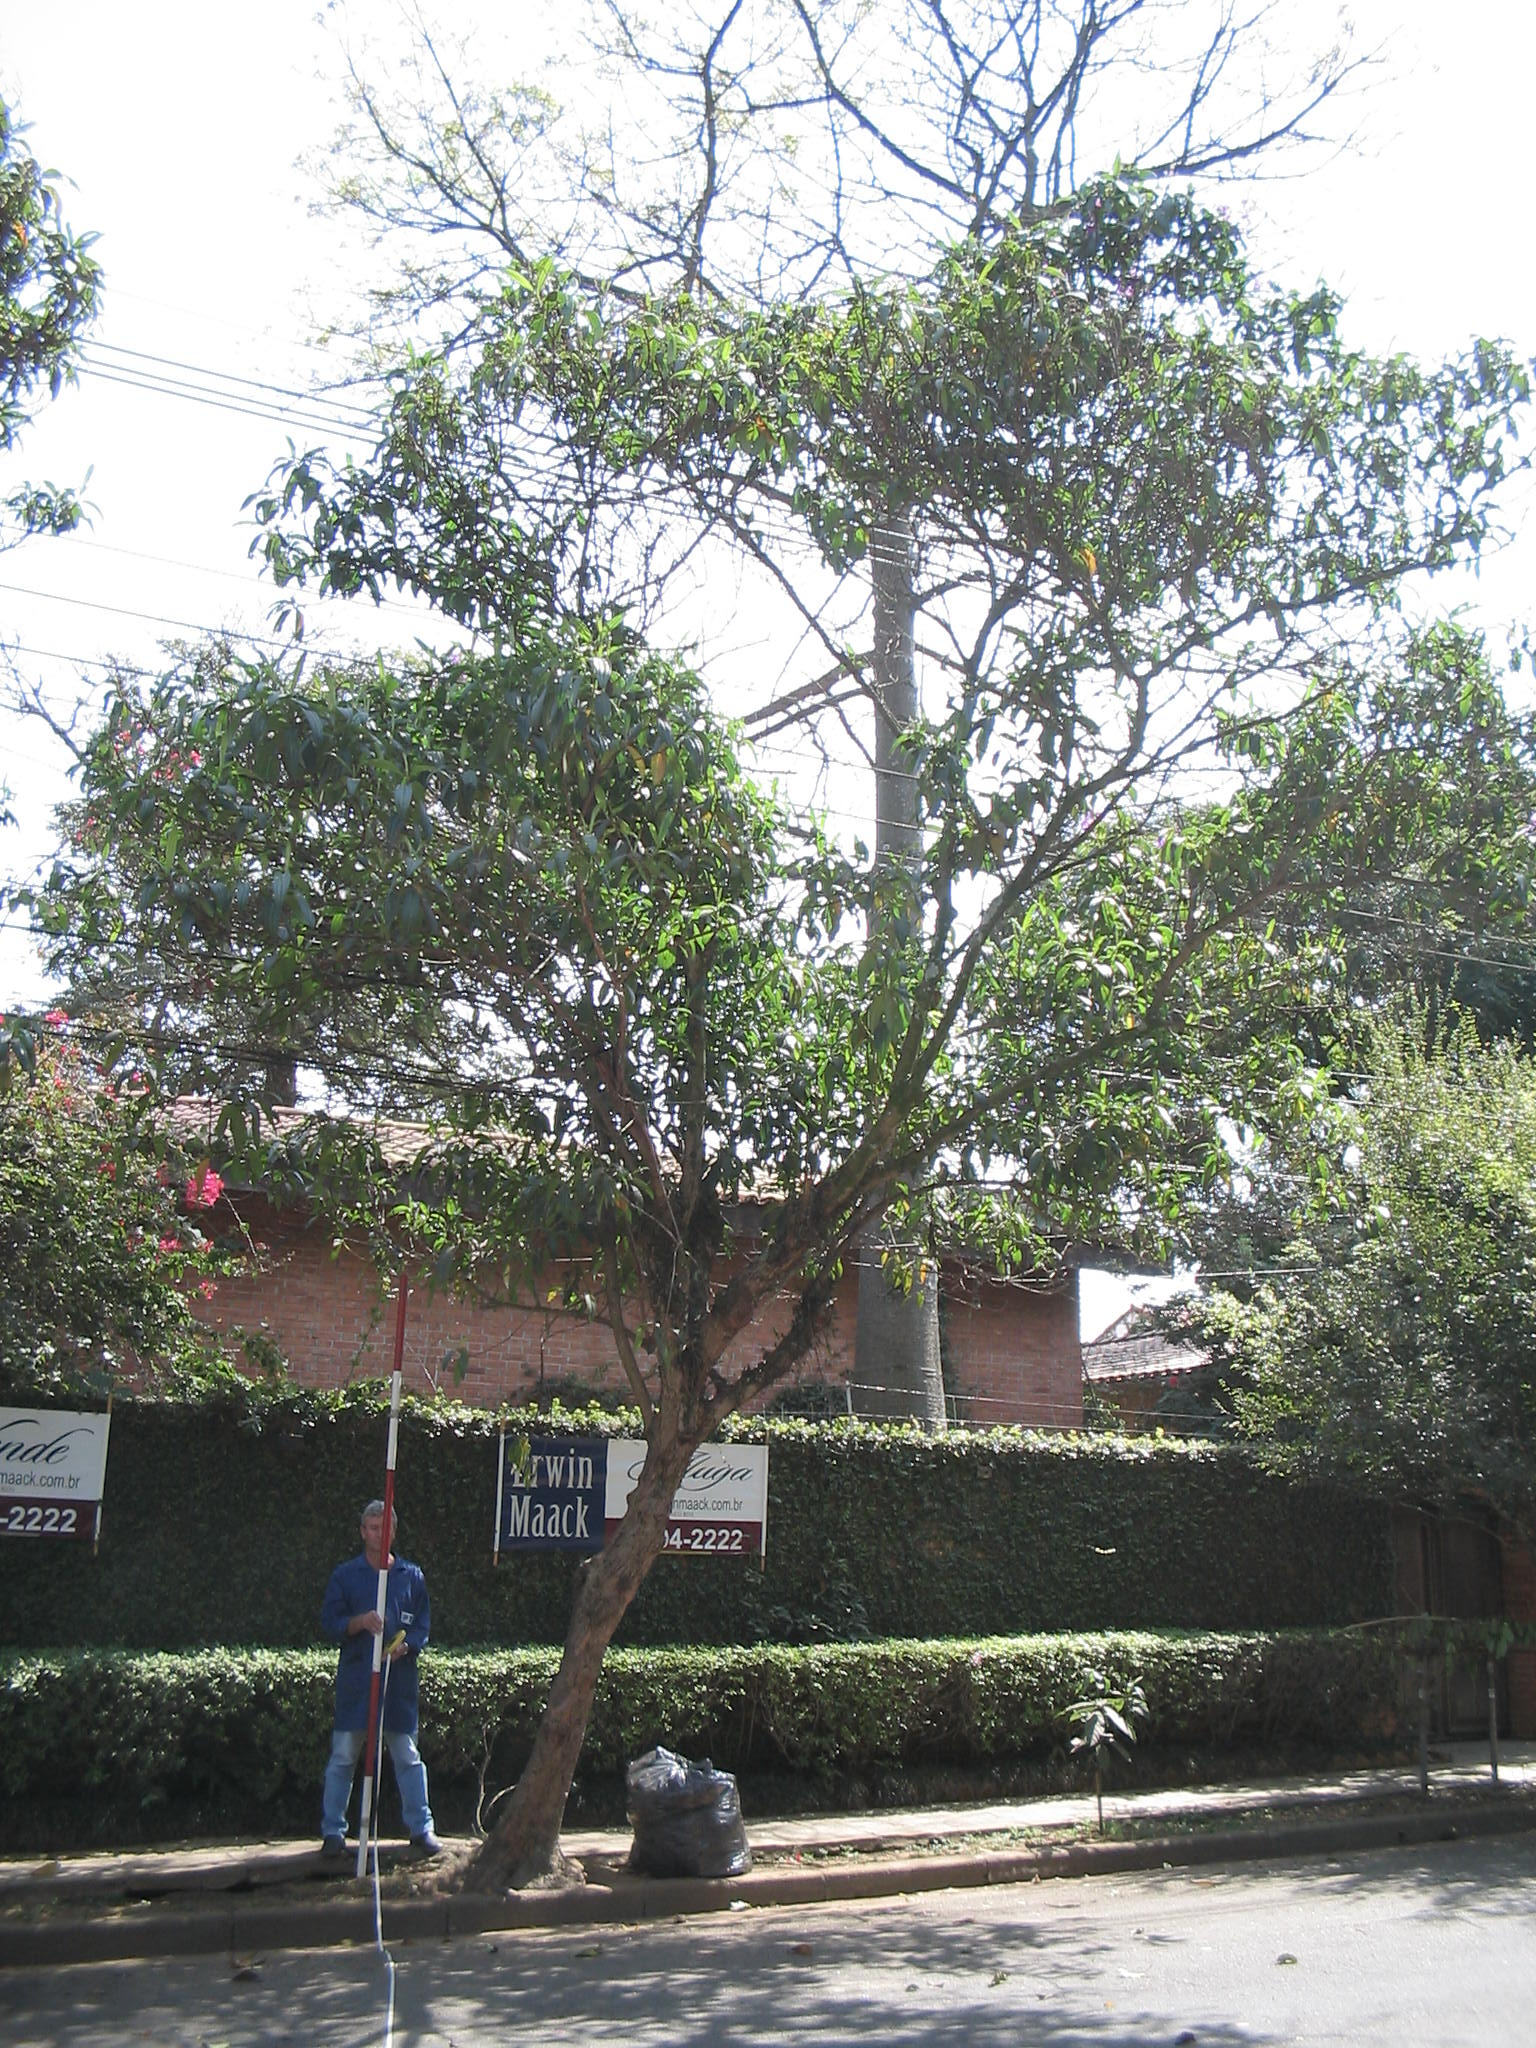crown: (35, 153, 1530, 1276)
stem: (444, 1434, 720, 1882)
stick: (344, 1279, 437, 1879)
tree: (32, 153, 1530, 1887)
